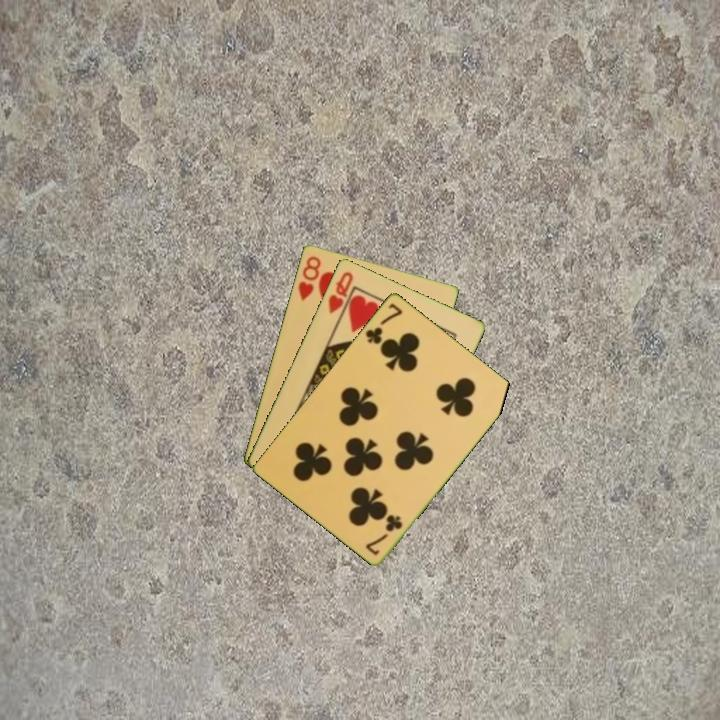7c: (362, 299, 405, 347), (362, 511, 405, 558)
8h: (294, 252, 324, 304)
Qh: (324, 268, 356, 316)
